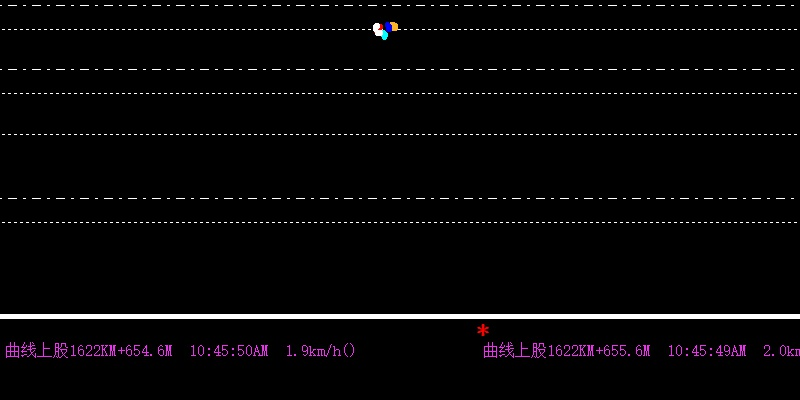face_2: (372, 19, 401, 37)
star: (476, 321, 491, 339)
